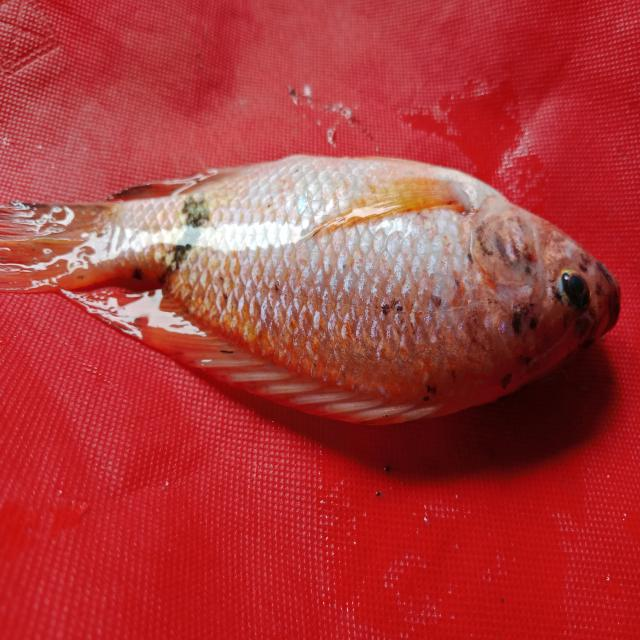ikan: (17, 129, 625, 455)
